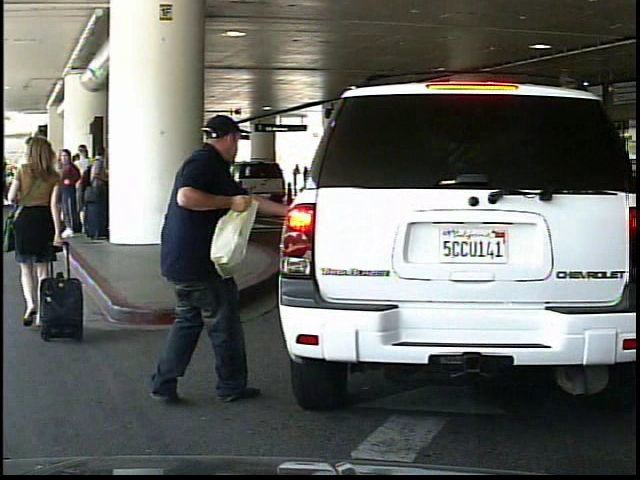person: (145, 108, 285, 411), (7, 136, 68, 339)
